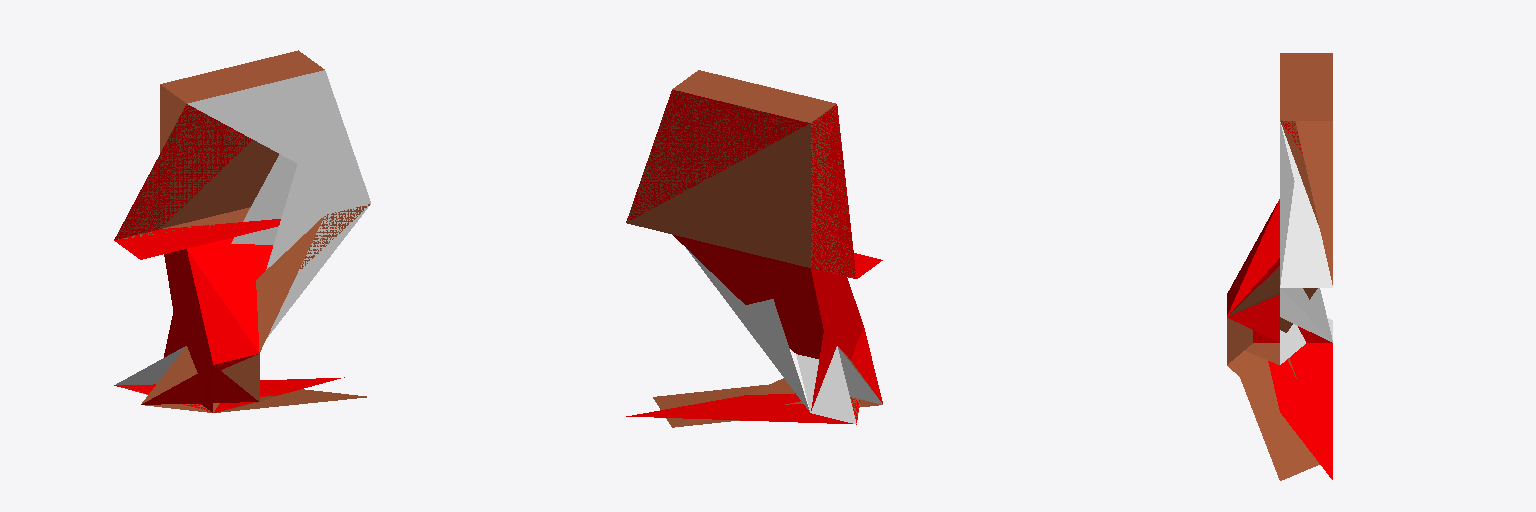
3 renders of one model, left to right at view 1: azimuth 30°, elevation 25°; view 2: azimuth 150°, elevation 25°; view 3: azimuth 270°, elevation 25°, orthographic.
Bounding box in the file's own units: 5 × 7 × 2.
1 materials, 1 textured.